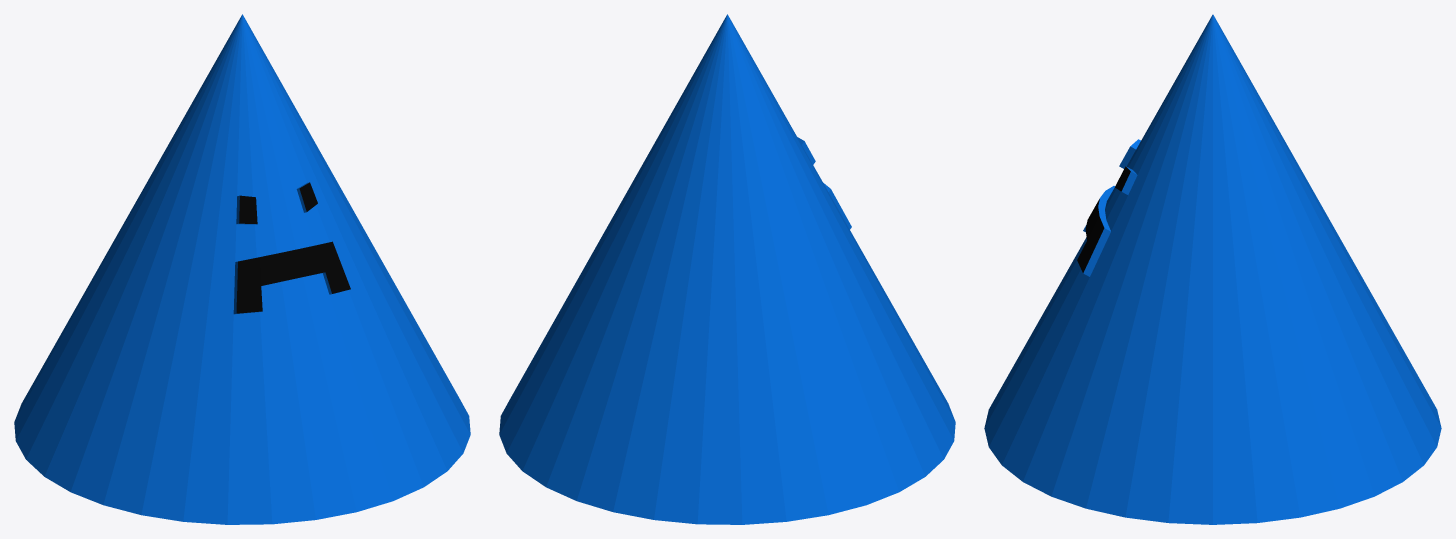
File: evilCone.fbx
3 views of the same model, side by side, from view 1: azimuth 30°, elevation 25°; view 2: azimuth 150°, elevation 25°; view 3: azimuth 270°, elevation 25° (orthographic).
Parts seen in each view (by area): view 1: Cone; view 2: Cone; view 3: Cone.
Boxes of the visible parts, x1,y1,x2,y2 form: Cone: (14, 14, 470, 524); Cone: (499, 14, 955, 524); Cone: (984, 14, 1441, 524).
Size of the model in its own units: 400 by 400 by 400.
